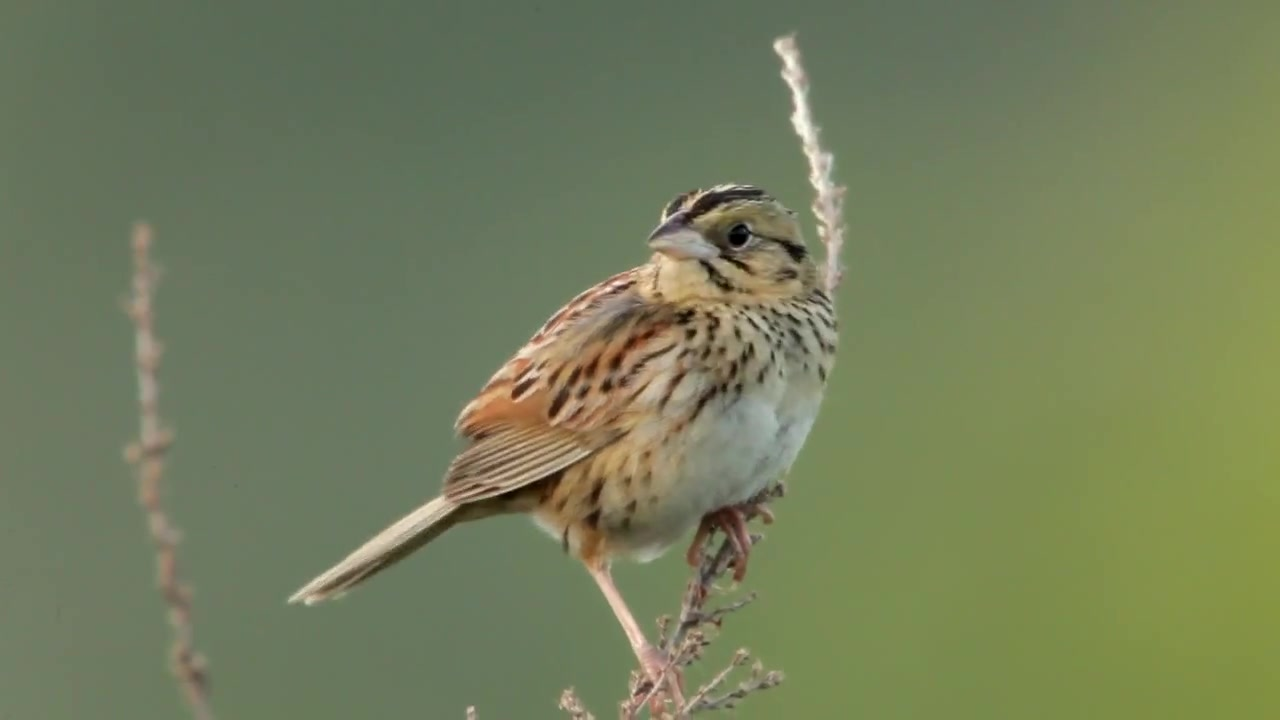bird: (287, 182, 844, 711)
